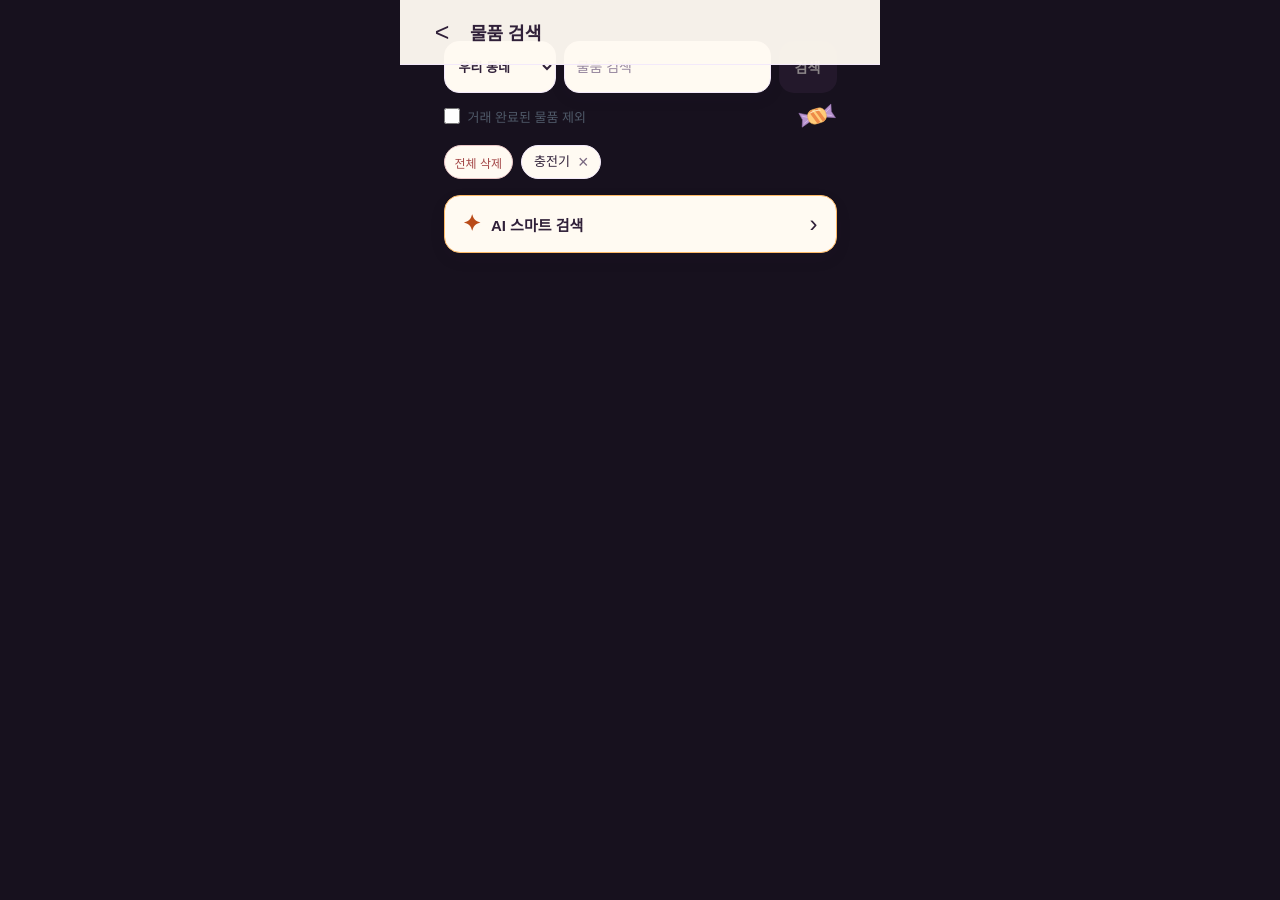
Test: 전체 삭제 실패 시 기록을 유지하고 공용 모달에 메시지를 표시한다
Check: the text "충전기" is shown, box [534,153,570,171]
Click the button "전체 삭제" at (478, 162), box [444,145,513,179]
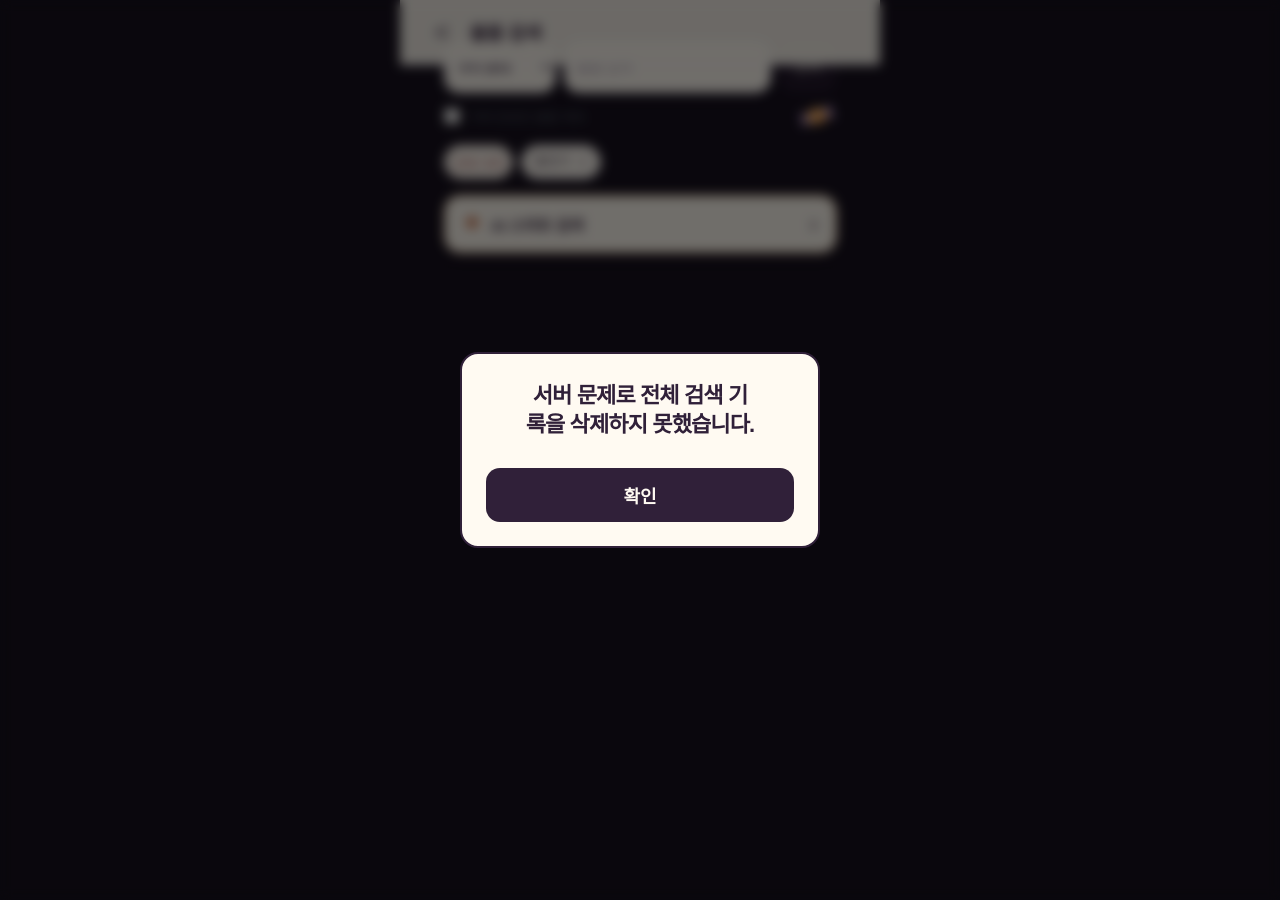
Check: the text "충전기" is shown, box [534,153,570,171]
Check: the text "서버 문제로 전체 검색 기록을 삭제하지 못했습니다." is shown, box [526,383,754,437]
Click the button "확인" at (640, 495), box [486,468,794,522]
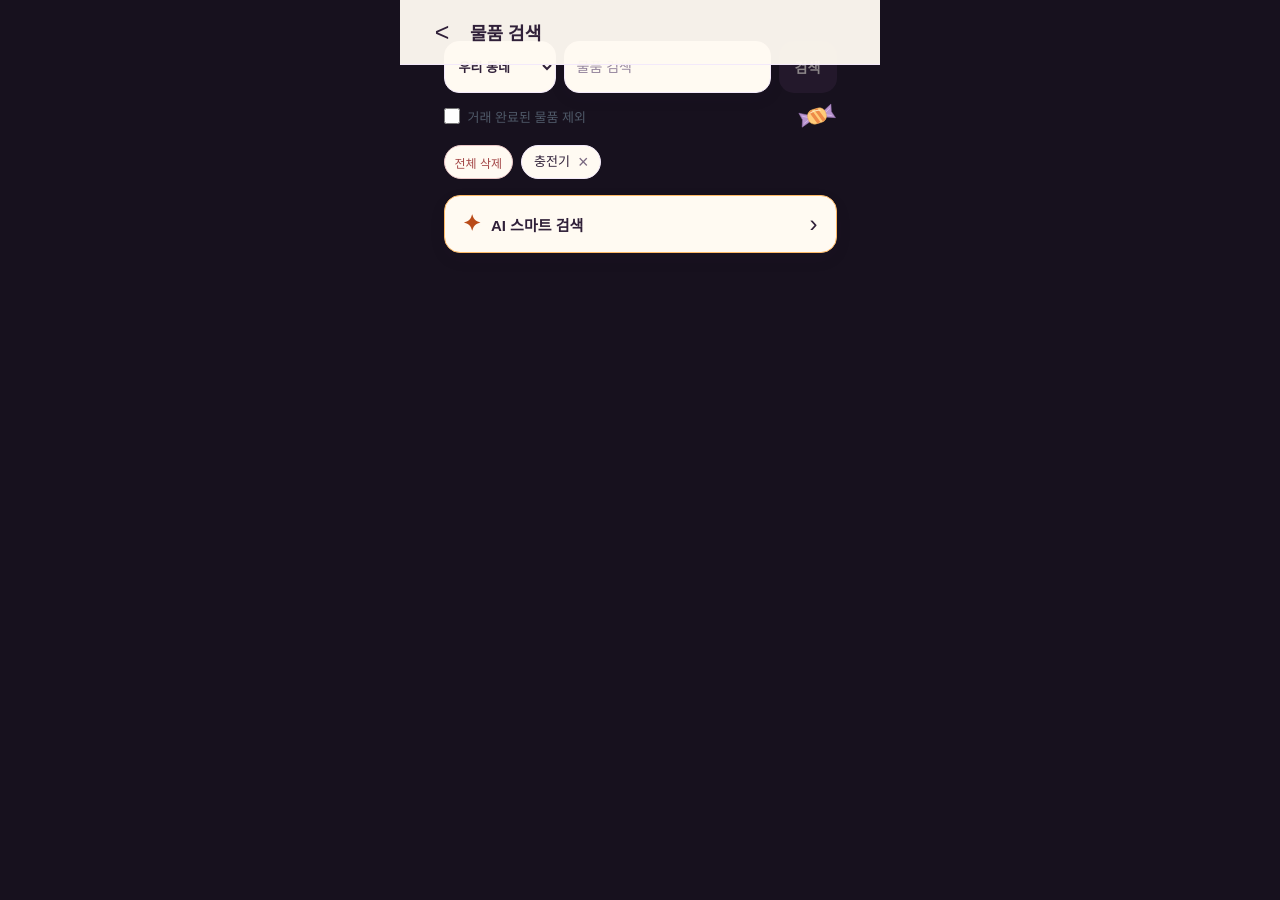
Check: the text "서버 문제로 전체 검색 기록을 삭제하지 못했습니다." is gone
